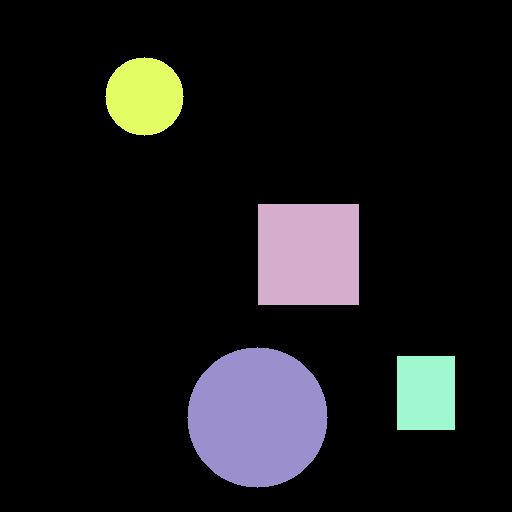circle: (187, 347, 327, 487), (105, 57, 183, 135)
rectangle: (397, 356, 454, 429)
square: (258, 204, 358, 304)
